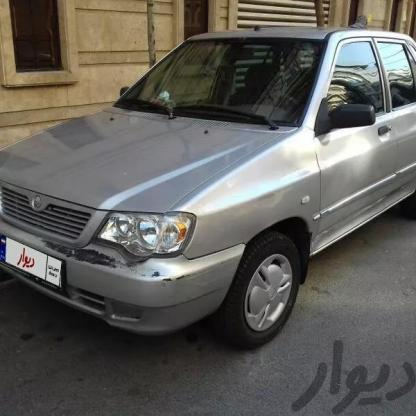Car: (0, 18, 416, 338)
